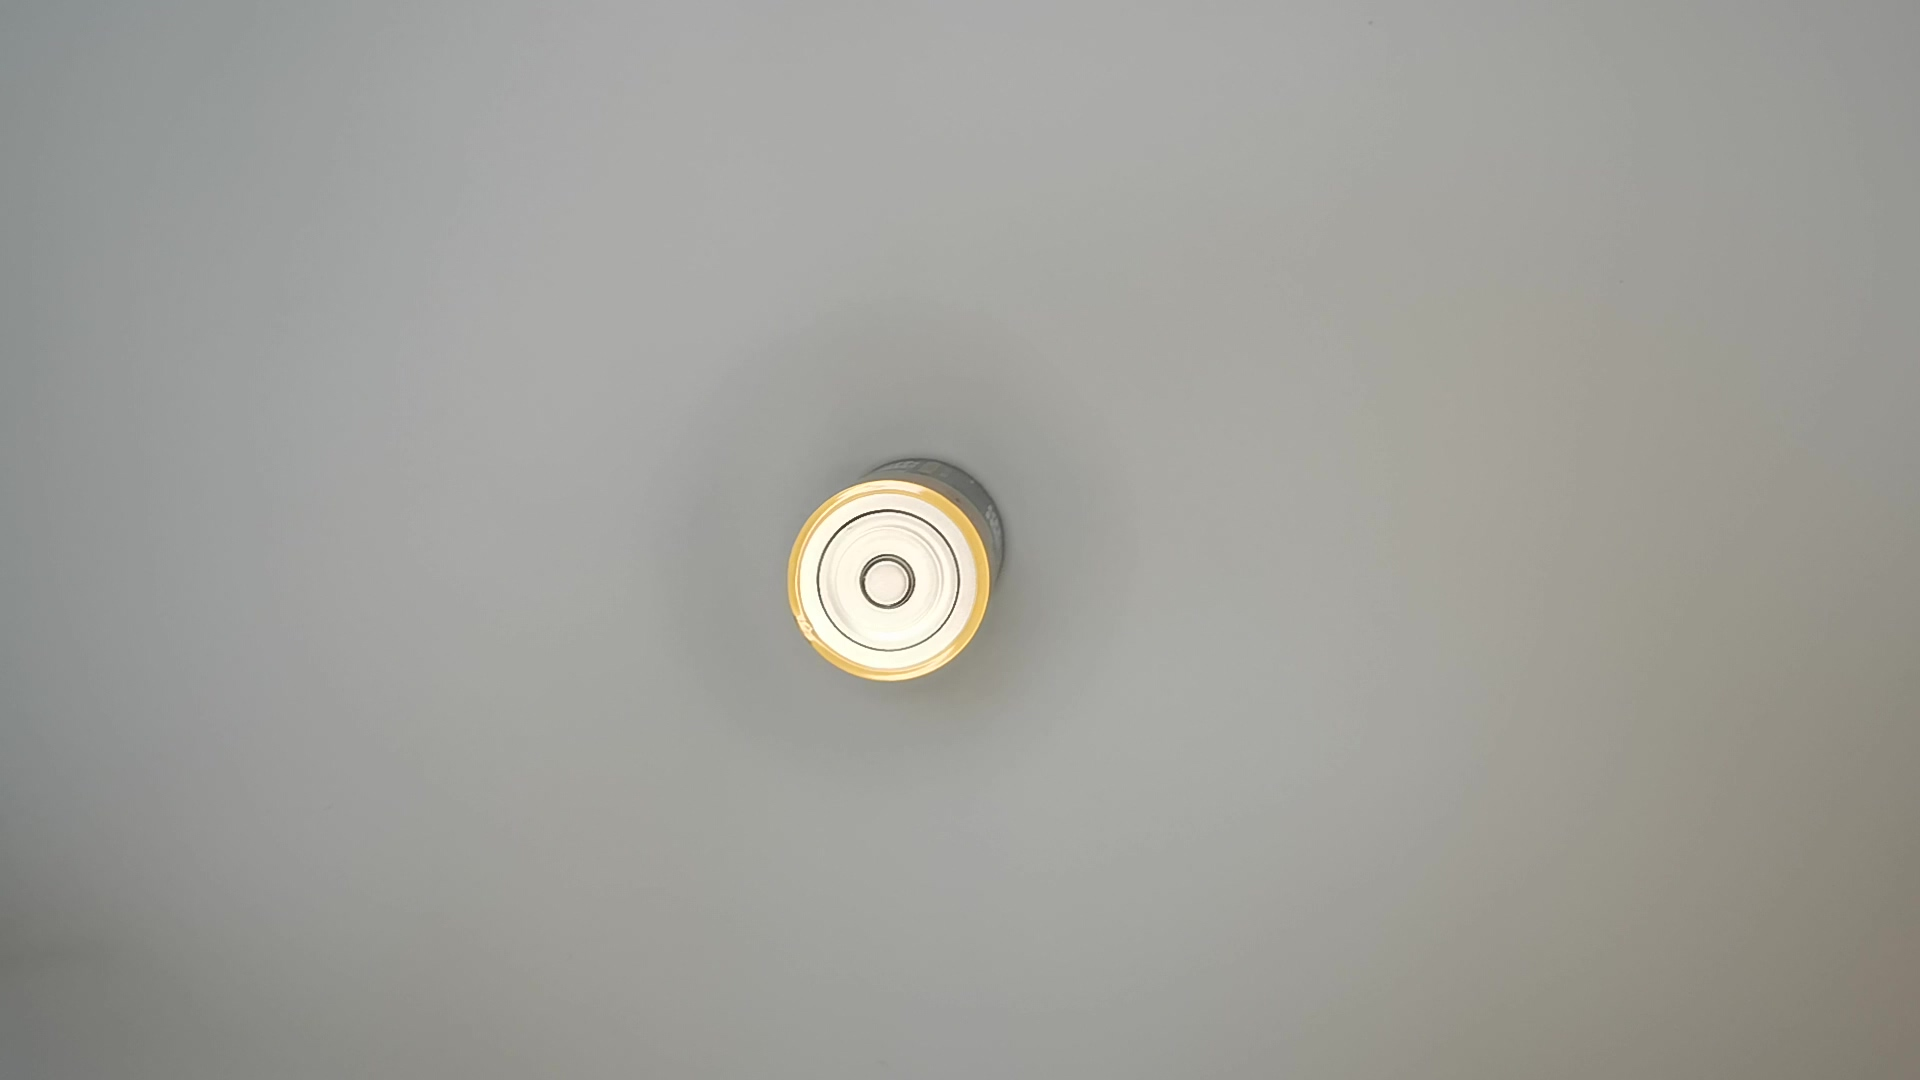battery: (785, 456, 1014, 686)
